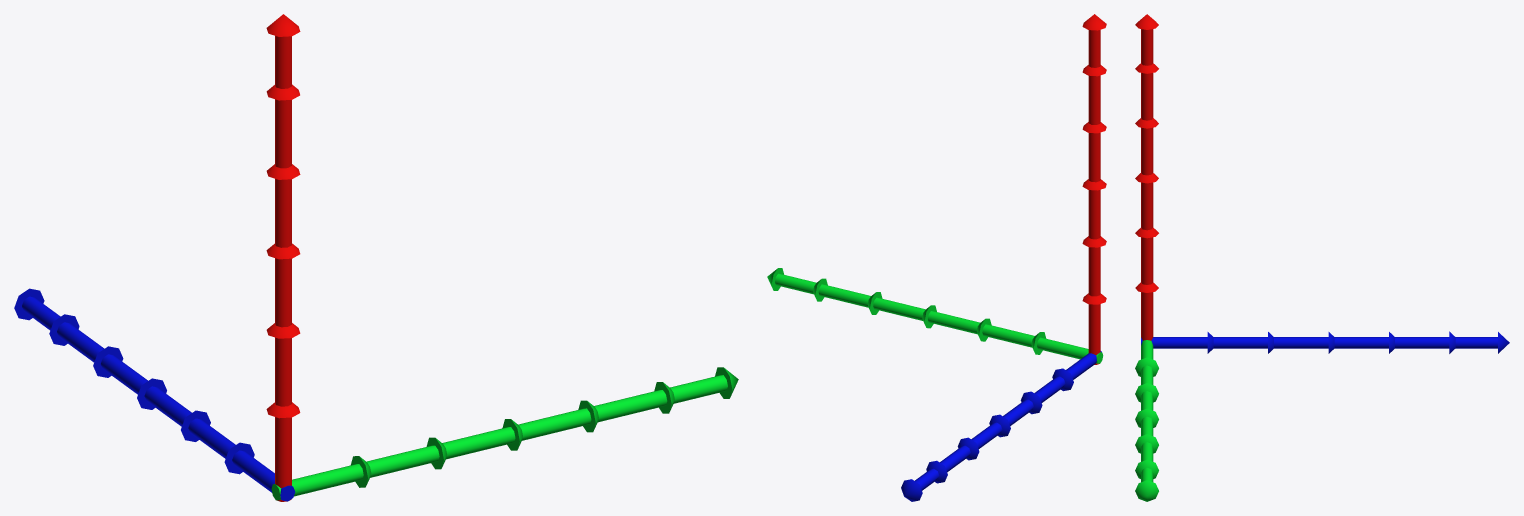
Rendered from AxisDisplay.fbx.
3 renders of one model, left to right at view 1: azimuth 30°, elevation 25°; view 2: azimuth 150°, elevation 25°; view 3: azimuth 270°, elevation 25°, orthographic. The views are drawn at different scales.
Parts seen in each view (by area): view 1: Cylinder, Cylinder.002, Cylinder.001; view 2: Cylinder.002, Cylinder, Cylinder.001; view 3: Cylinder.002, Cylinder.001, Cylinder.
Part boxes in pixels (x1=…): Cylinder: x1=271, y1=367, x2=738, y2=500; Cylinder.002: x1=266, y1=14, x2=300, y2=501; Cylinder.001: x1=14, y1=288, x2=295, y2=501; Cylinder.002: x1=1082, y1=14, x2=1106, y2=364; Cylinder: x1=767, y1=268, x2=1103, y2=363; Cylinder.001: x1=901, y1=351, x2=1101, y2=501; Cylinder.002: x1=1135, y1=14, x2=1158, y2=340; Cylinder.001: x1=1141, y1=331, x2=1509, y2=353; Cylinder: x1=1135, y1=340, x2=1158, y2=501.
Bounding box in the file's own units: 620 × 620 × 620.
